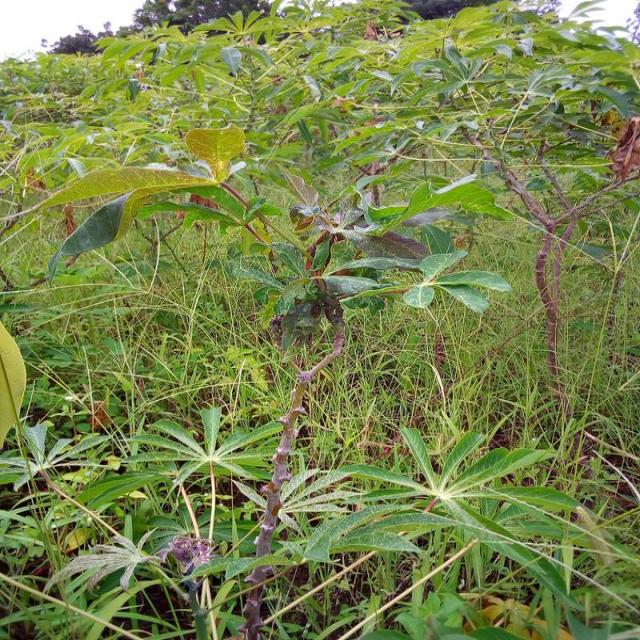cassava leaf: (184, 122, 246, 184), (0, 319, 26, 450)
